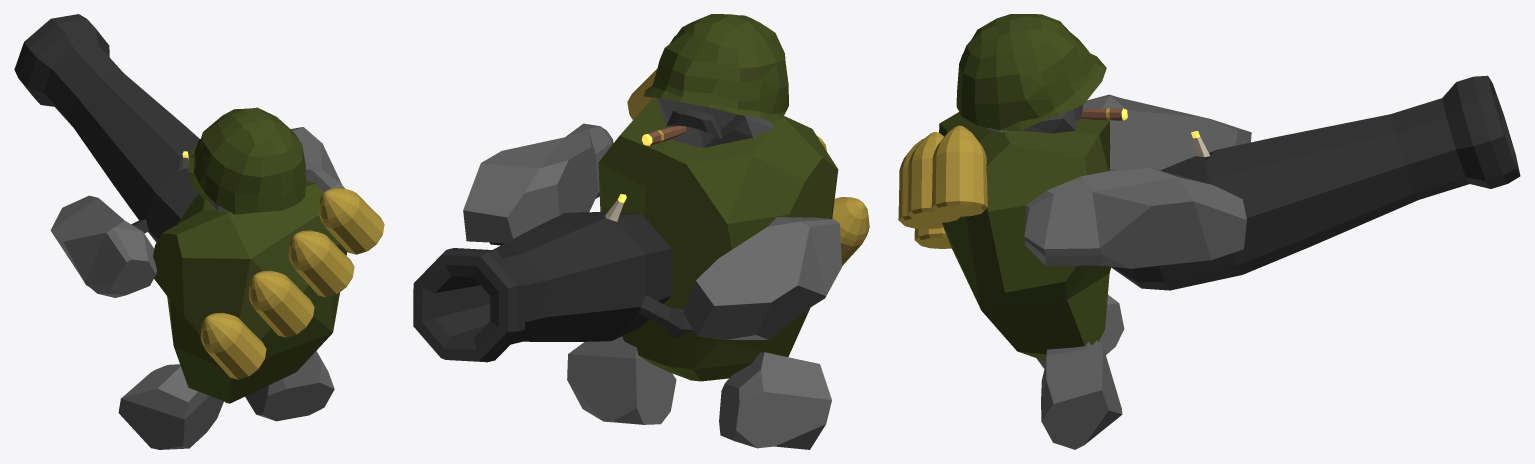
Rendered from golemArtillery.fbx.
The picture shows the model from 3 angles, left to right: view 1: azimuth 30°, elevation 25°; view 2: azimuth 150°, elevation 25°; view 3: azimuth 270°, elevation 25°; orthographic projection. The views are drawn at different scales.
Parts seen in each view (by area): view 1: Cube.003; view 2: Cube.003; view 3: Cube.003.
Part boxes in pixels (x1,y1,x2,y2): Cube.003: [14, 14, 384, 449]; Cube.003: [413, 14, 869, 449]; Cube.003: [898, 14, 1520, 449].
Bounding box in the file's own units: 478 × 597 × 873.
